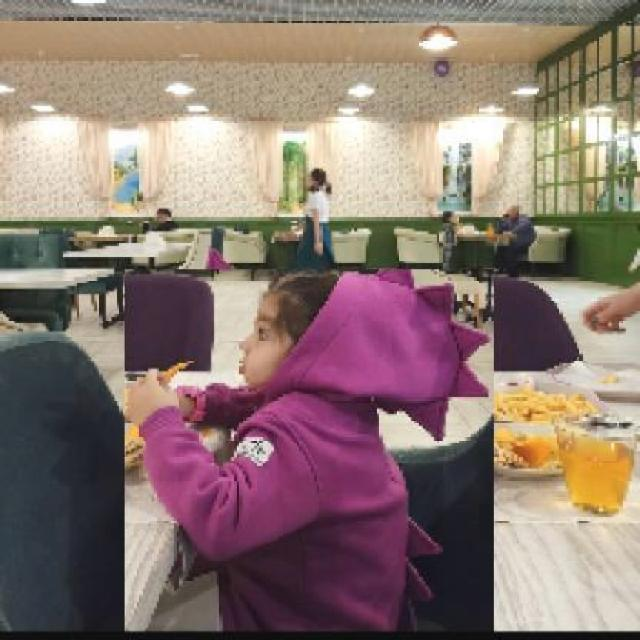child: (123, 269, 494, 637)
